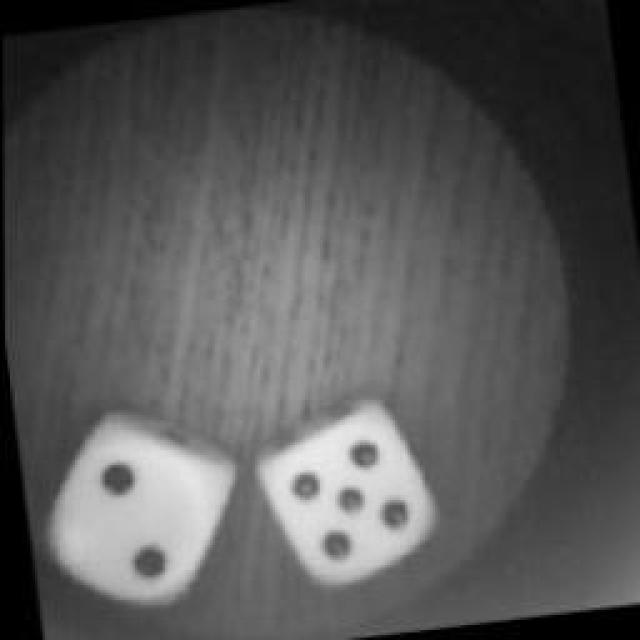dice_2: (25, 400, 253, 625)
dice_5: (242, 398, 446, 598)
